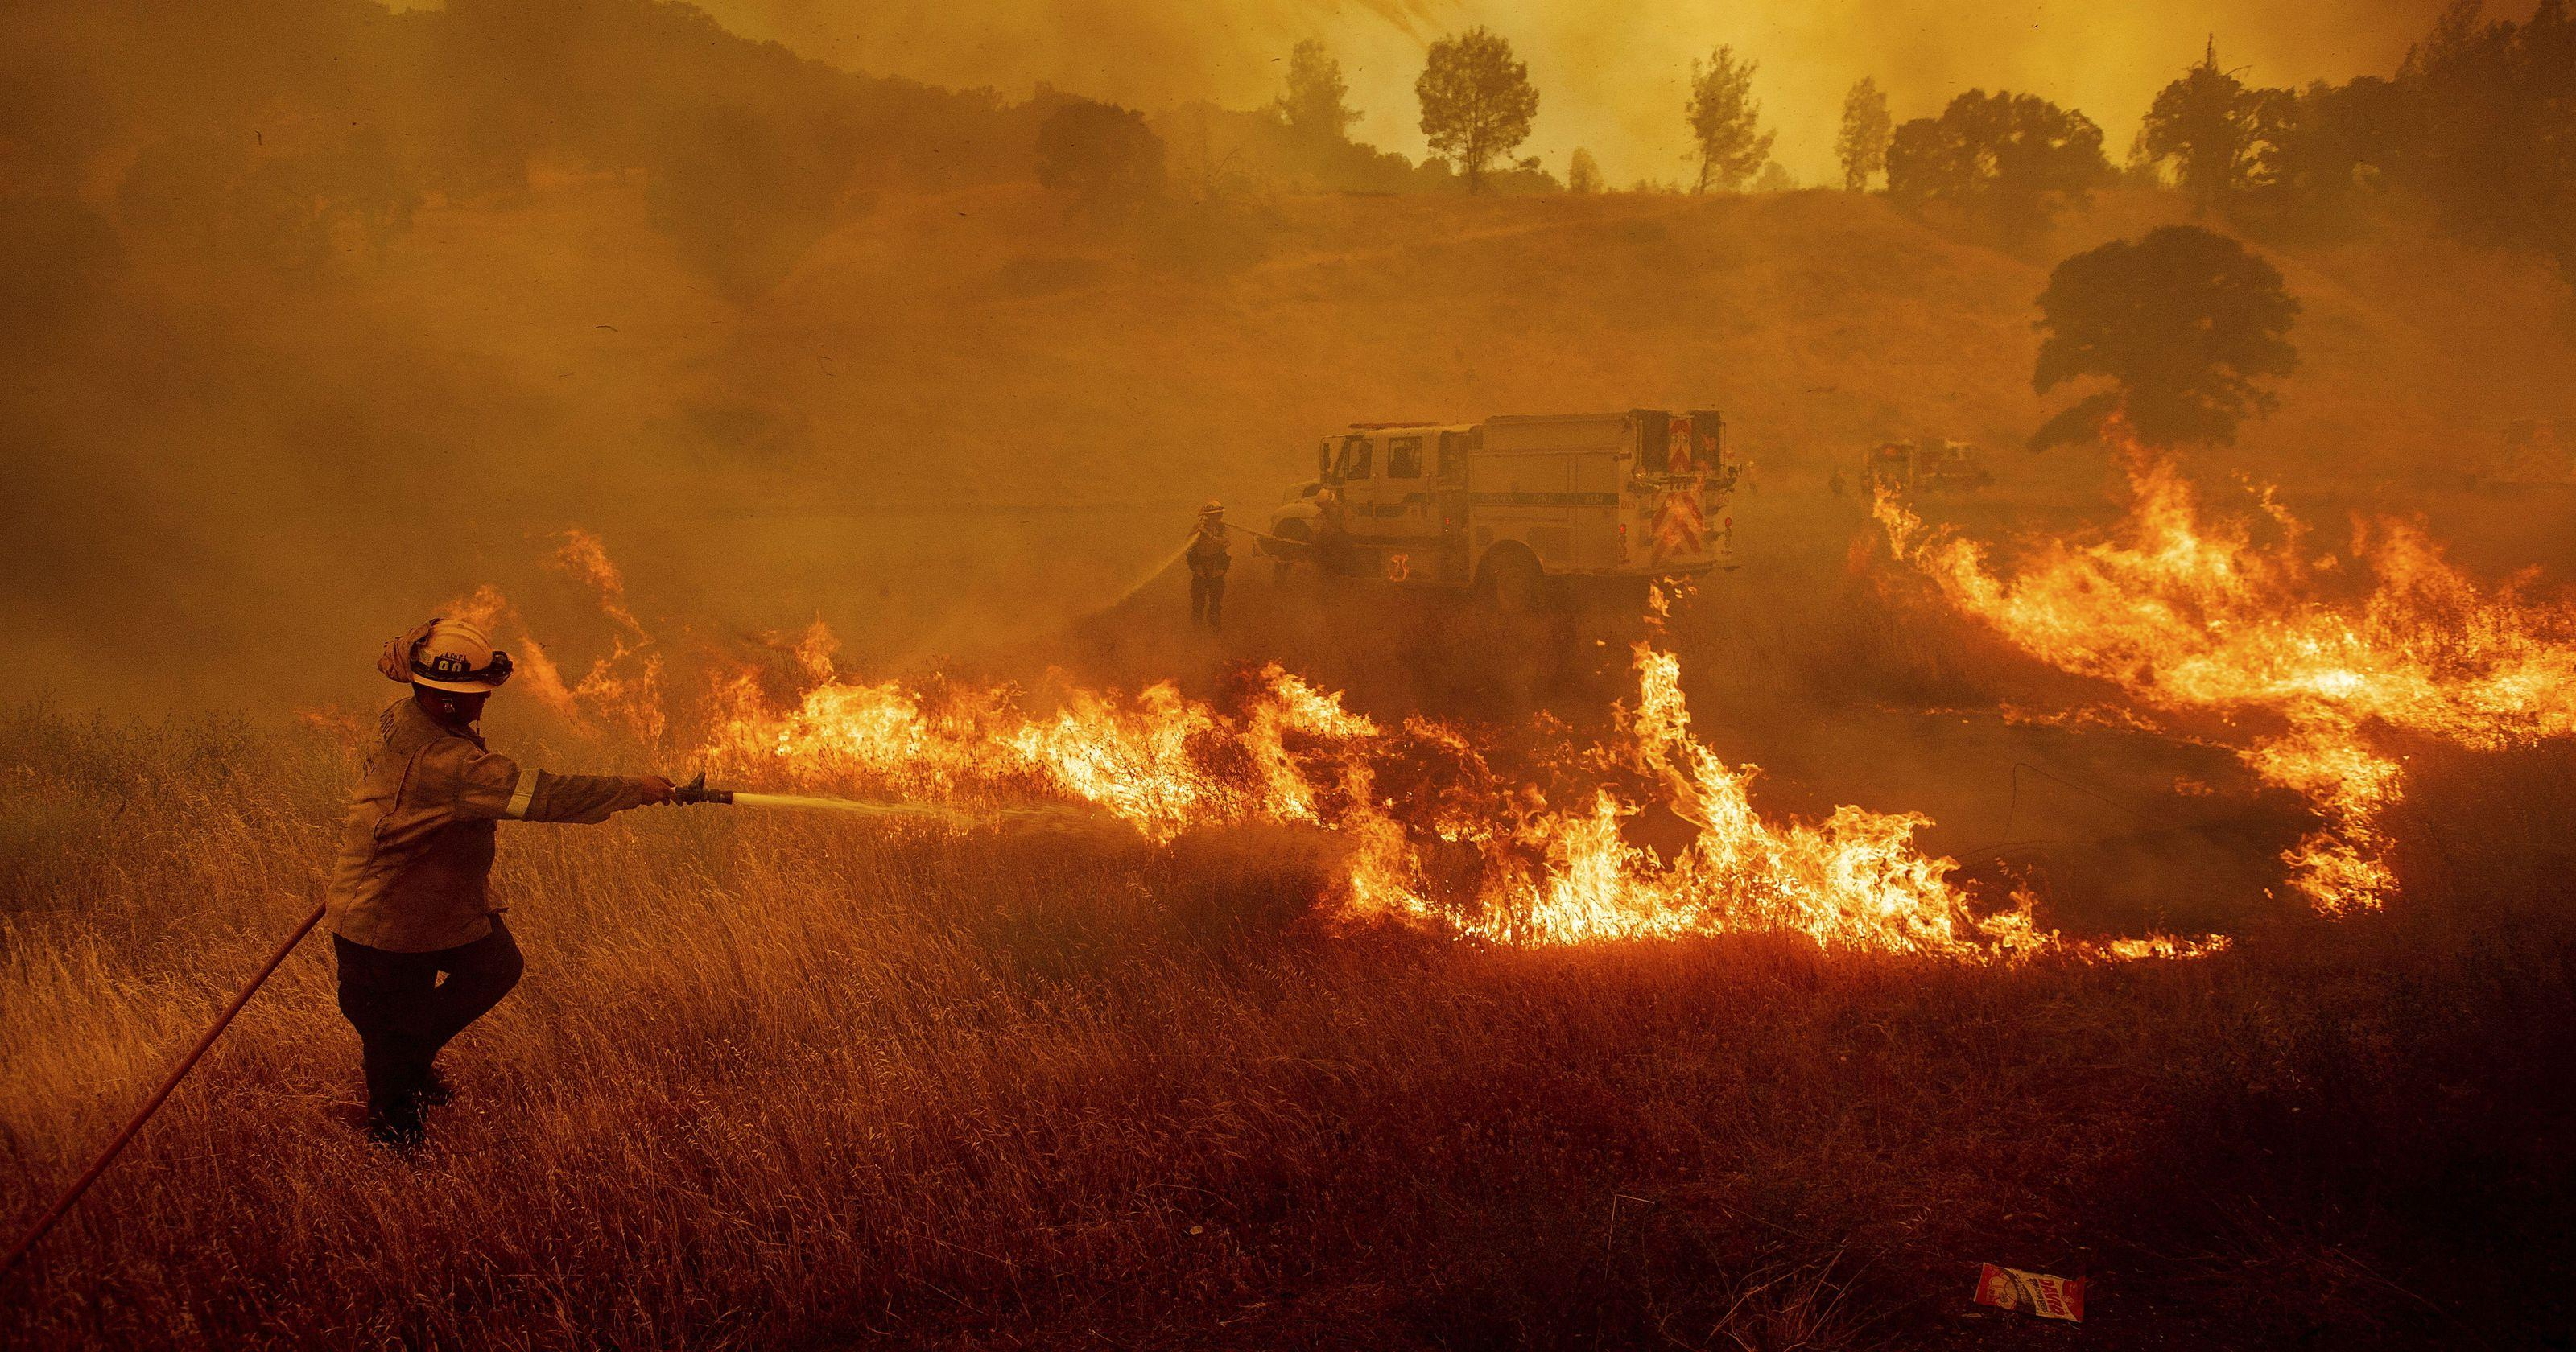Fire: (702, 402, 2576, 977)
